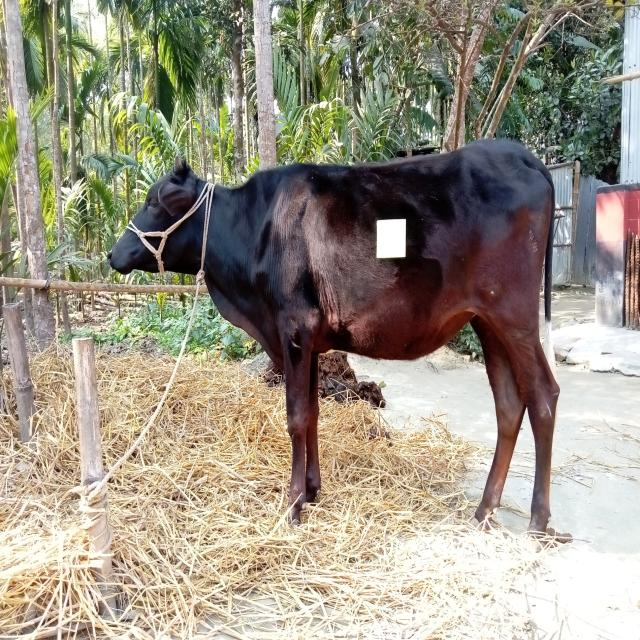badan_sapi: (279, 144, 521, 364)
sapi: (104, 134, 574, 554)
